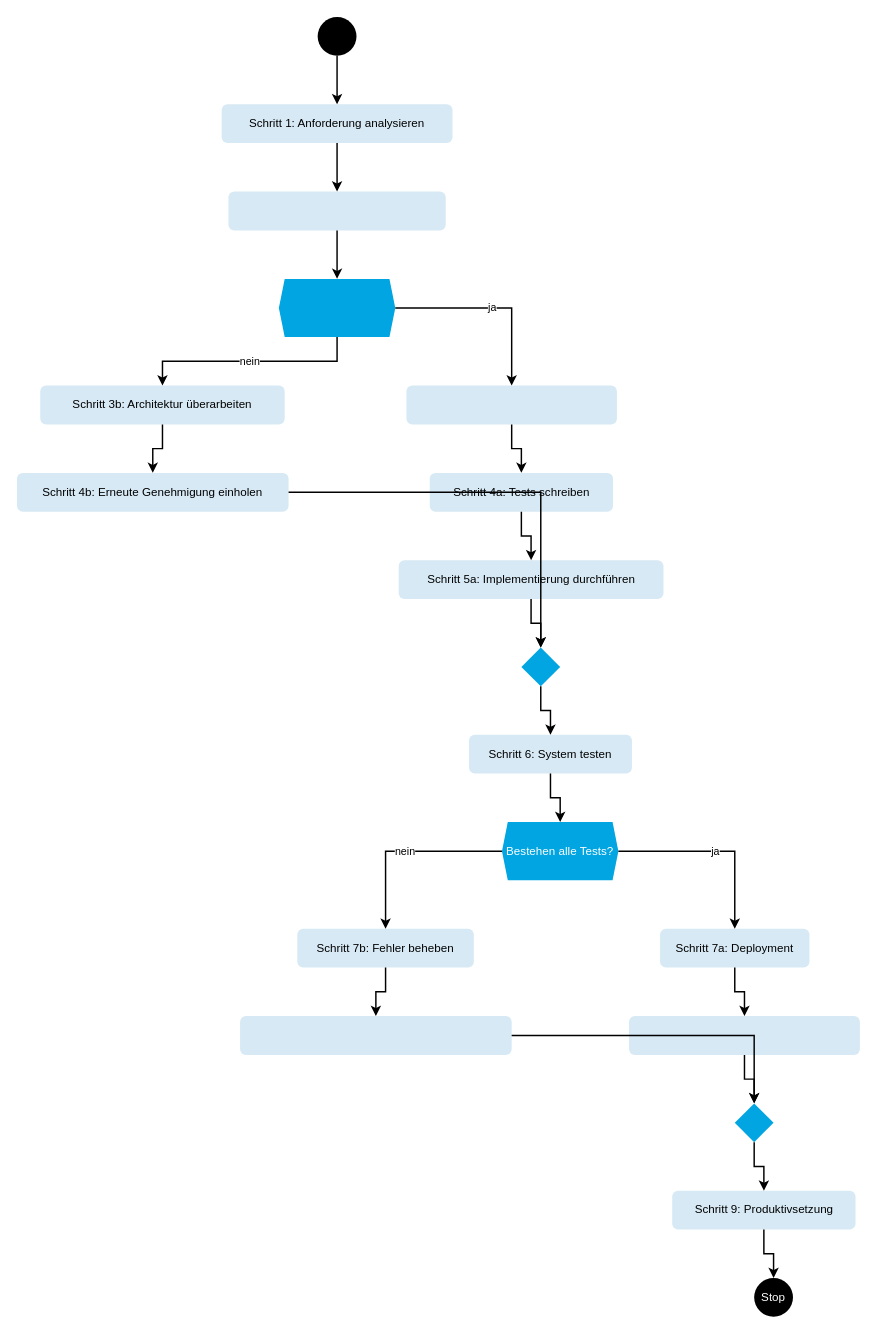
Image size: 876x1333. Some labels were removed from this diagram. Each missing label, with the centre of its shape:
Ist die Architektur genehmigt?: pixel 336 307
Schritt 2: Architektur entwerfen: pixel 336 210
Schritt 3a: Entwicklung starten: pixel 511 404
Schritt 8a: Benutzerakzeptanztests: pixel 744 1035
Schritt 8b: Regression Tests durchführen: pixel 375 1035
Start: pixel 336 35
